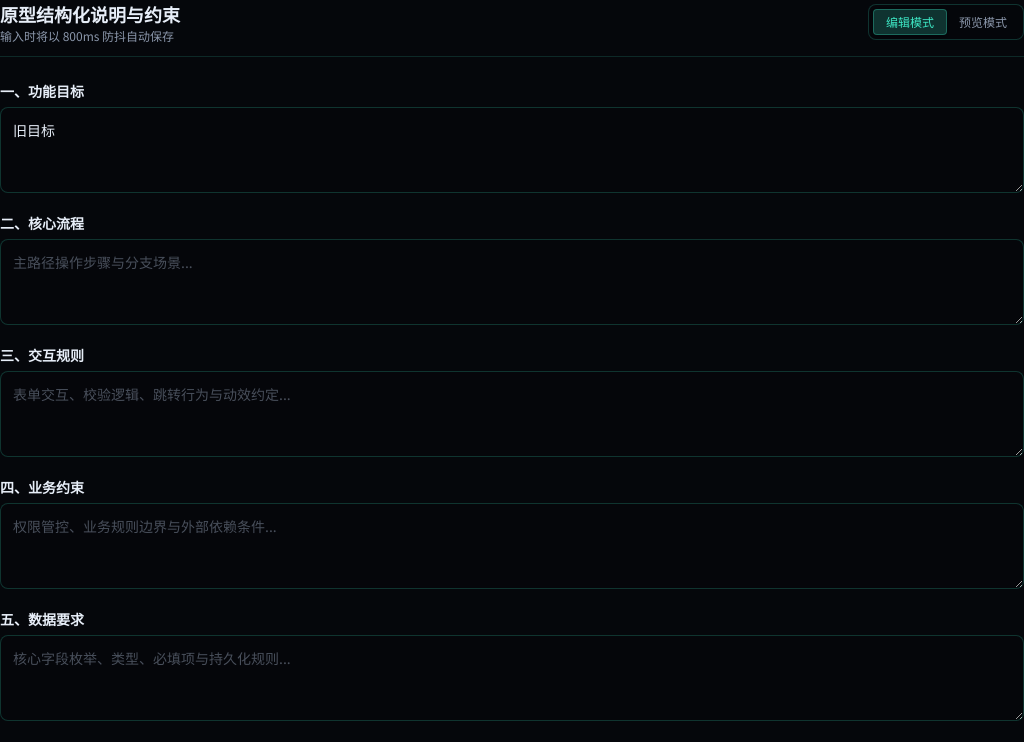
Test: PrototypeSpecEditor › shows conflict banner when optimistic locking conflict occurs
Replace the text in the text box showing "旧目标" with "我的新目标": (512, 150) [0, 107, 1023, 193]
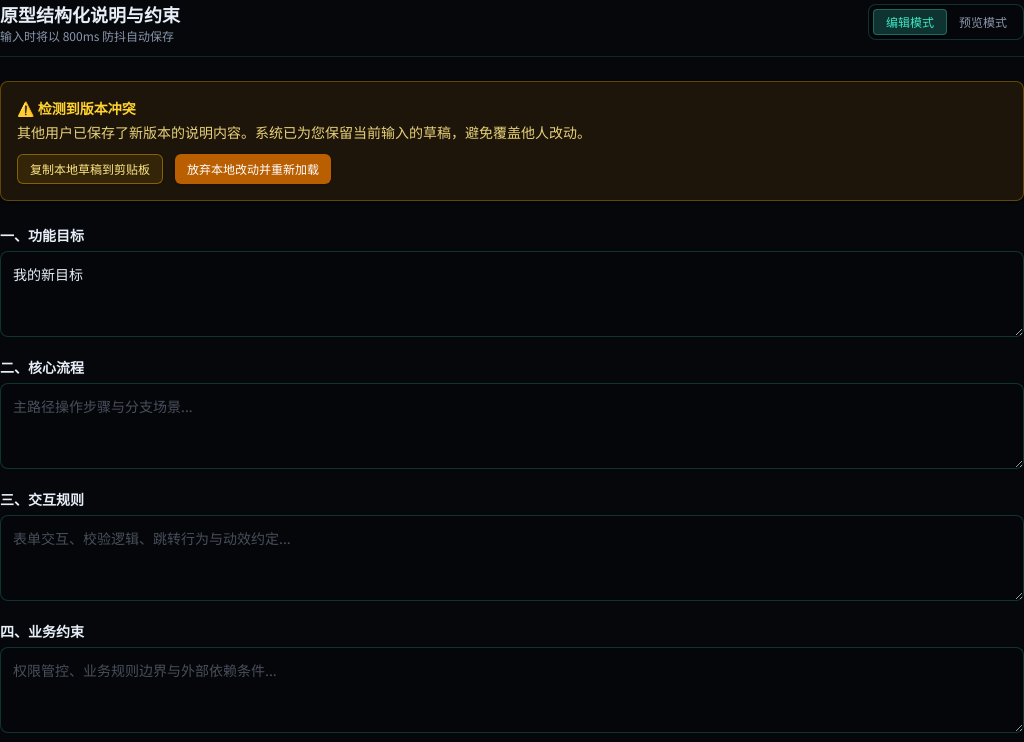
Check: the text "⚠️ 检测到版本冲突" is shown, box [17, 98, 136, 118]
Check: the button "复制本地草稿到剪贴板" is shown, box [17, 154, 163, 184]
